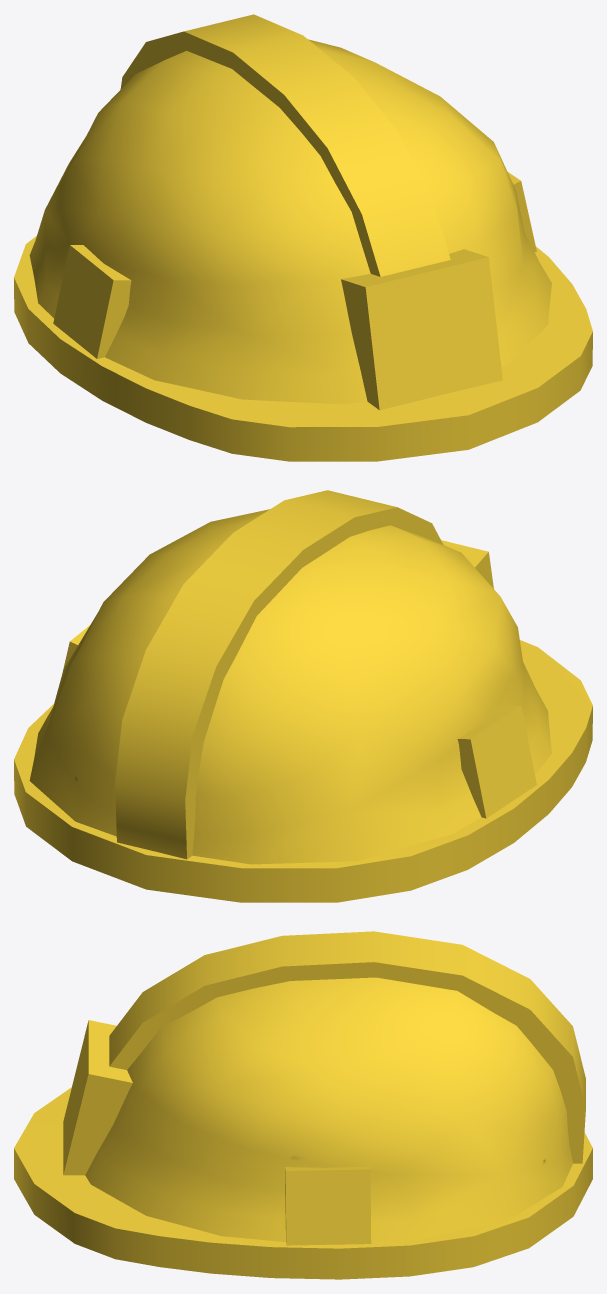
Rendered from 7修理工头盔.fbx.
3 views of the same model, one above another, from view 1: azimuth 30°, elevation 25°; view 2: azimuth 150°, elevation 25°; view 3: azimuth 270°, elevation 25° (orthographic). The views are drawn at different scales.
Parts seen in each view (by area): view 1: 7修理工头盔; view 2: 7修理工头盔; view 3: 7修理工头盔.
Boxes of the visible parts, <box> form: 7修理工头盔: <box>14,14,592,461</box>; 7修理工头盔: <box>14,490,592,902</box>; 7修理工头盔: <box>14,931,592,1279</box>.
Bounding box in the file's own units: 0.4618 × 0.253 × 0.5684.
